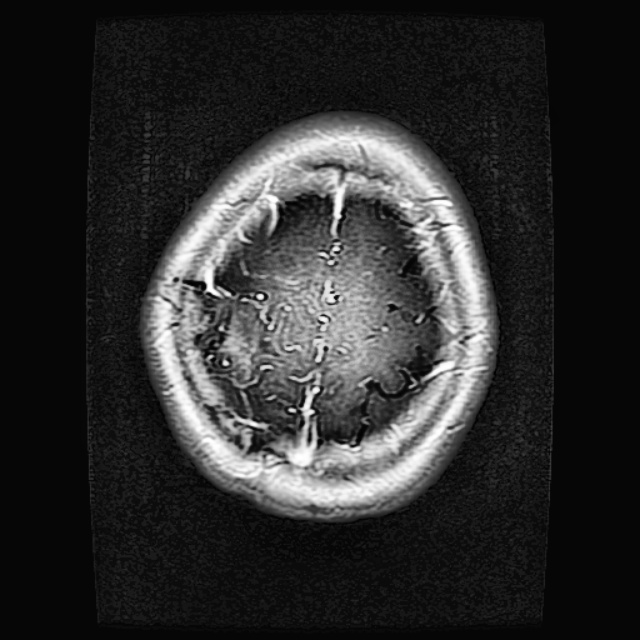Meningioma: (198, 294, 269, 384)
